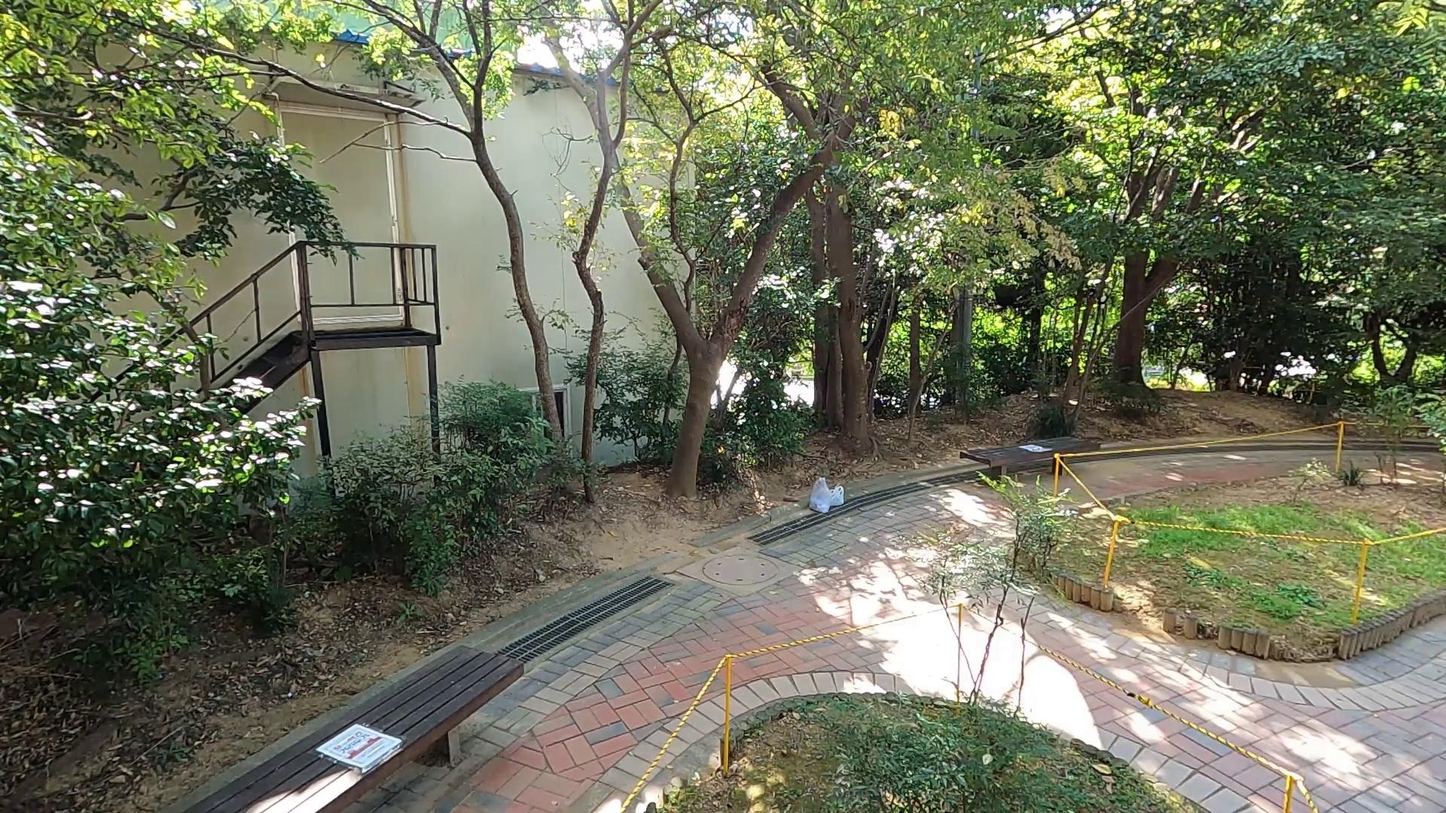trash: (806, 476, 834, 517), (816, 479, 850, 511)
